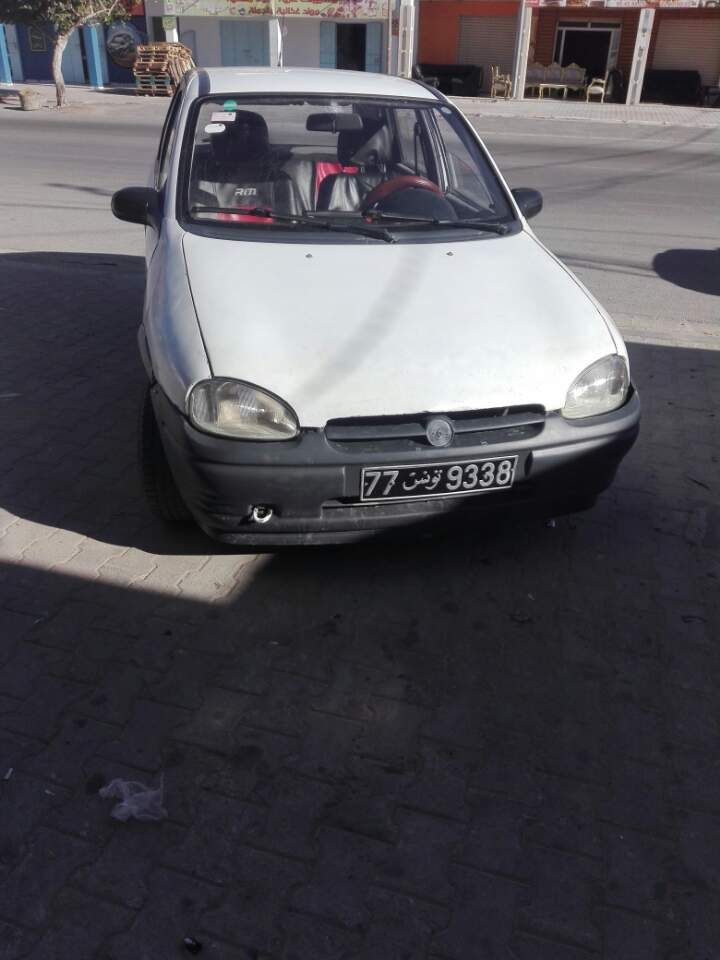LP: (358, 455, 519, 499)
